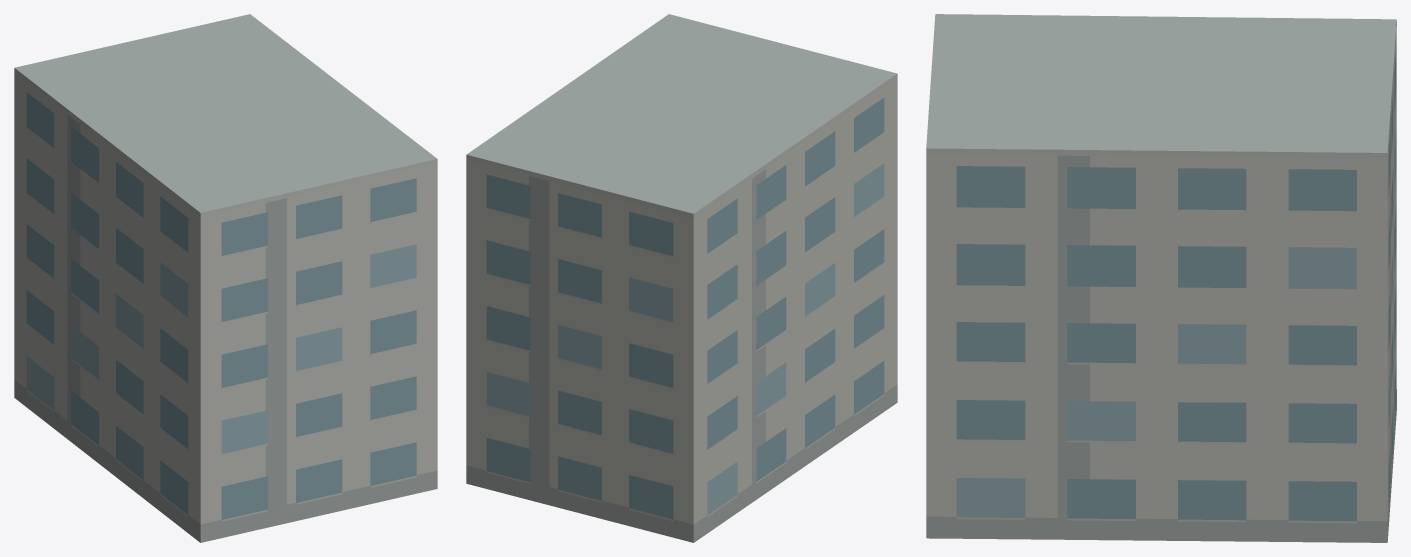
File: survey-upis-32765954.glb
3 views of the same model, side by side, from view 1: azimuth 30°, elevation 25°; view 2: azimuth 150°, elevation 25°; view 3: azimuth 270°, elevation 25° (orthographic). The views are drawn at different scales.
Parts seen in each view (by area): view 1: survey-upis-32765954.tmp; view 2: survey-upis-32765954.tmp; view 3: survey-upis-32765954.tmp.
Boxes of the visible parts, x1=… form: survey-upis-32765954.tmp: x1=14, y1=14, x2=437, y2=542; survey-upis-32765954.tmp: x1=466, y1=14, x2=897, y2=542; survey-upis-32765954.tmp: x1=926, y1=14, x2=1396, y2=542.
Bounding box in the file's own units: 12.24 × 16 × 17.51.
